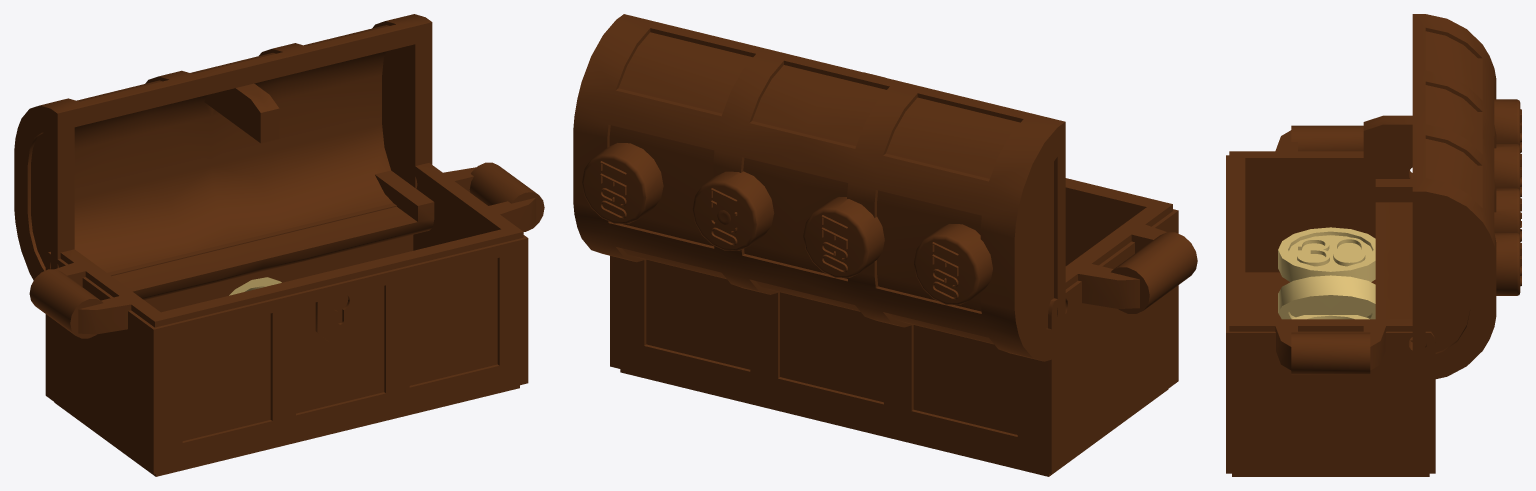
Rendered from pirate_chest.glb.
The picture shows the model from 3 angles, left to right: view 1: azimuth 30°, elevation 25°; view 2: azimuth 150°, elevation 25°; view 3: azimuth 270°, elevation 25°; orthographic projection. The views are drawn at different scales.
Visible parts, largest first — view 1: CHEST_TMP; view 2: CHEST_TMP; view 3: CHEST_TMP.
Boxes of the visible parts, x1=… form: CHEST_TMP: x1=14, y1=14, x2=544, y2=476; CHEST_TMP: x1=573, y1=14, x2=1197, y2=476; CHEST_TMP: x1=1226, y1=14, x2=1521, y2=476.
Size of the model in its own units: 1.67 by 0.995 by 0.9267.
